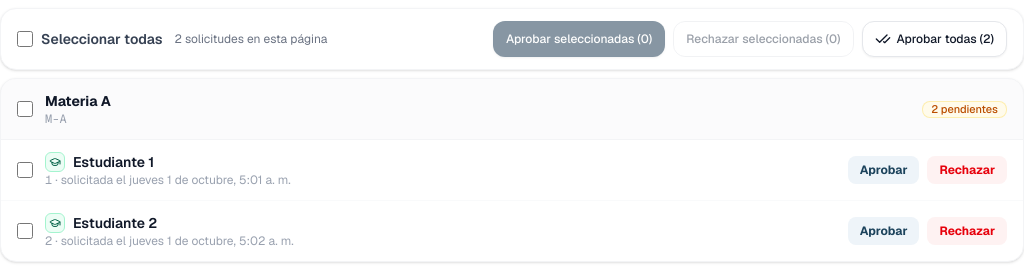
it: EnrollmentRequestsBoard › counts the selection and disables the bulk buttons when nothing is selected
Expected: the button "Aprobar seleccionadas (0)" is disabled, [493, 21, 665, 57]
Expected: the button "Rechazar seleccionadas (0)" is disabled, [673, 21, 854, 57]
Click the checkbox named "solicitud de Estudiante 1". click: click(25, 170)
box: [17, 162, 33, 178]
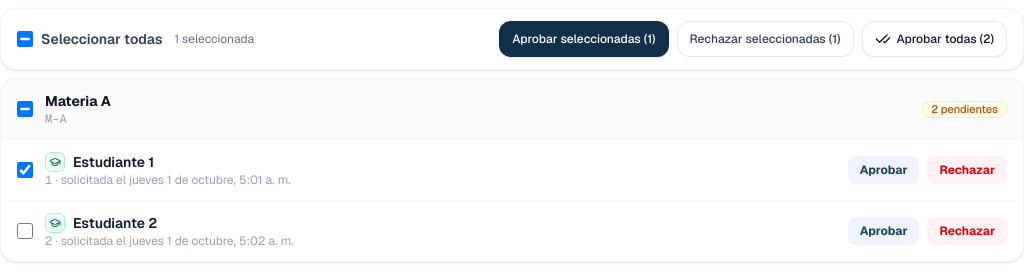
Expected: the text "1 seleccionada" is shown, [174, 31, 254, 47]
Expected: the button "Aprobar seleccionadas (1)" is enabled, [499, 21, 669, 57]
